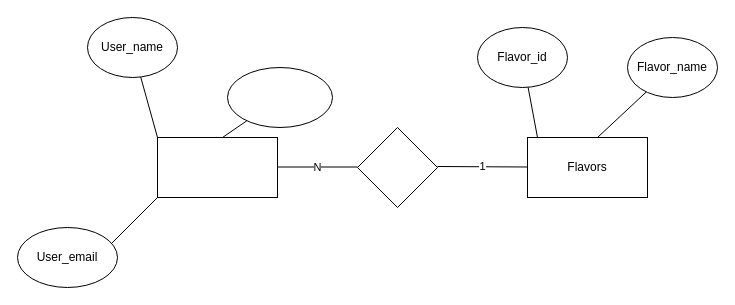
Some shapes in this 735 by 305 pixel diagram are drawn without their labels. Each missing label, with the box of its shape:
User: (156, 136, 278, 198)
User_id: (226, 66, 332, 128)
Vote: (356, 126, 438, 208)
